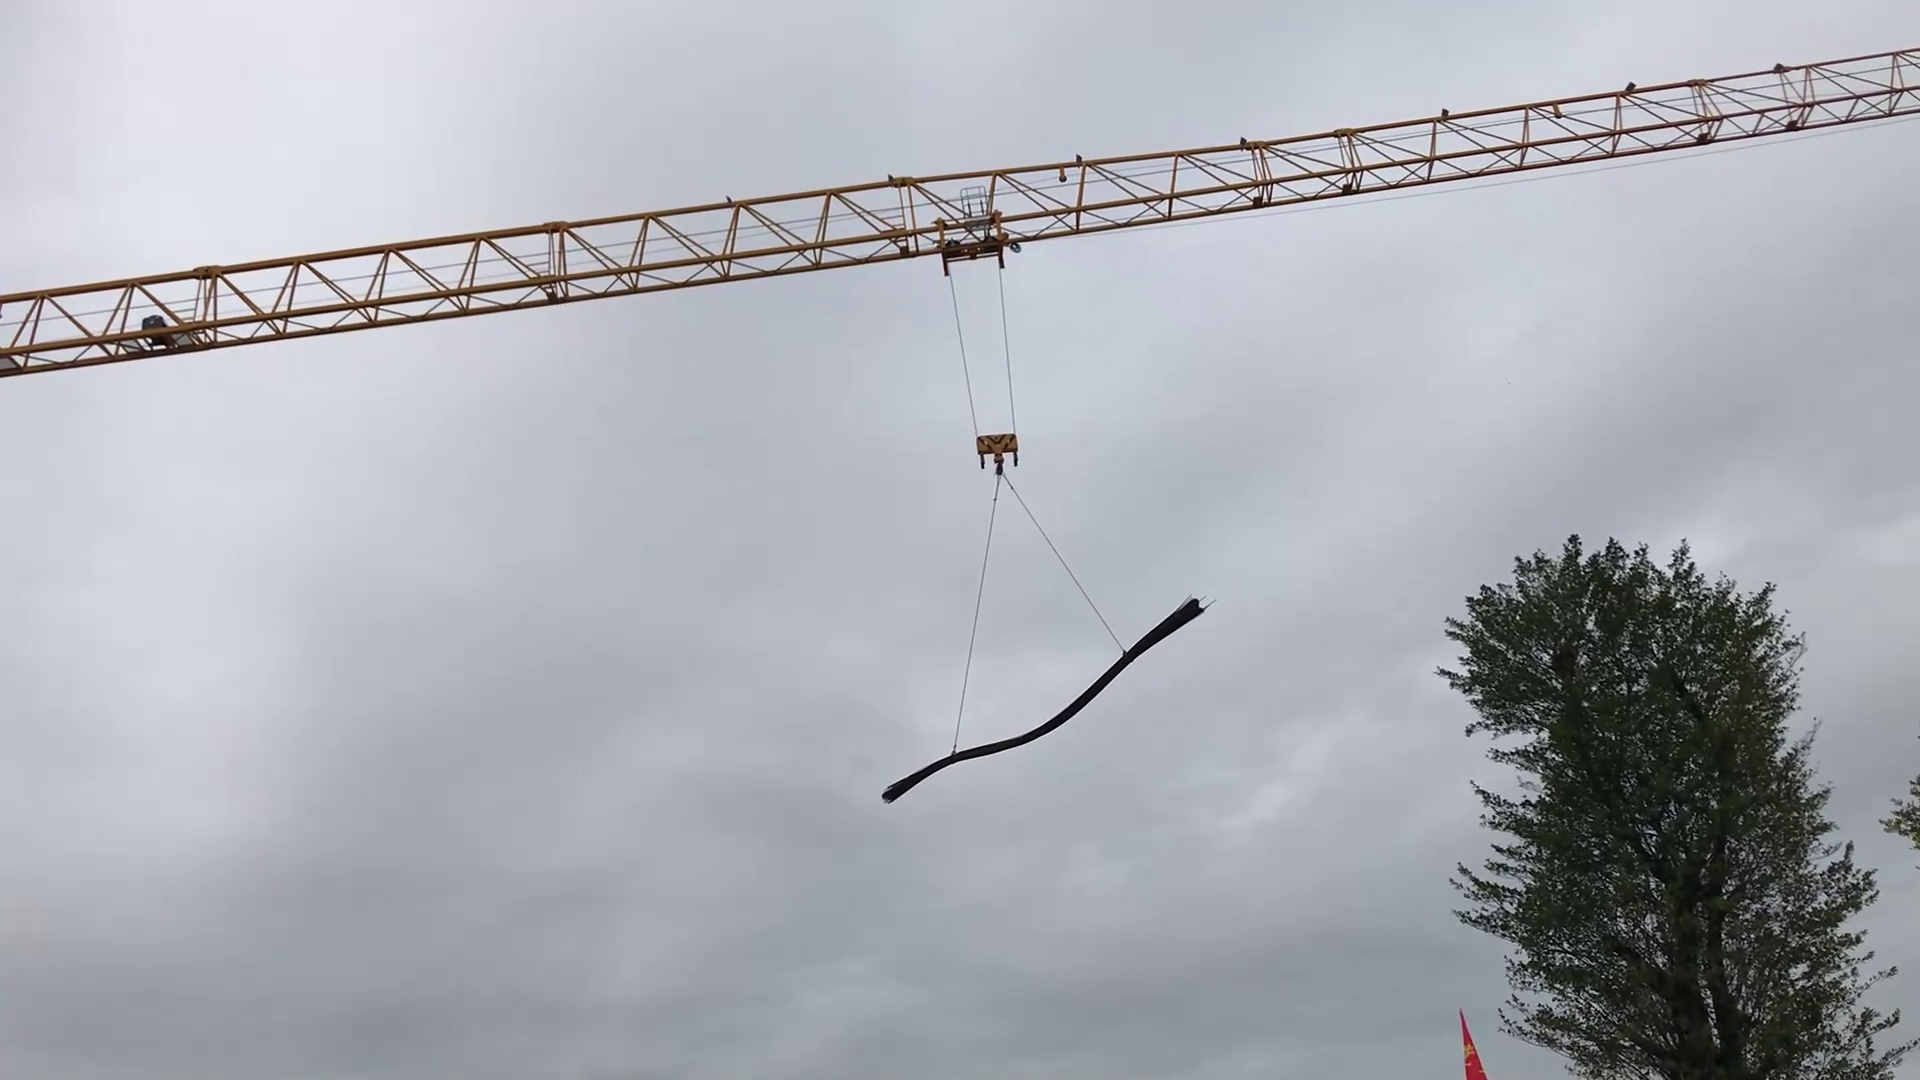hook: (972, 431, 1025, 487)
rebar: (862, 585, 1234, 828)
